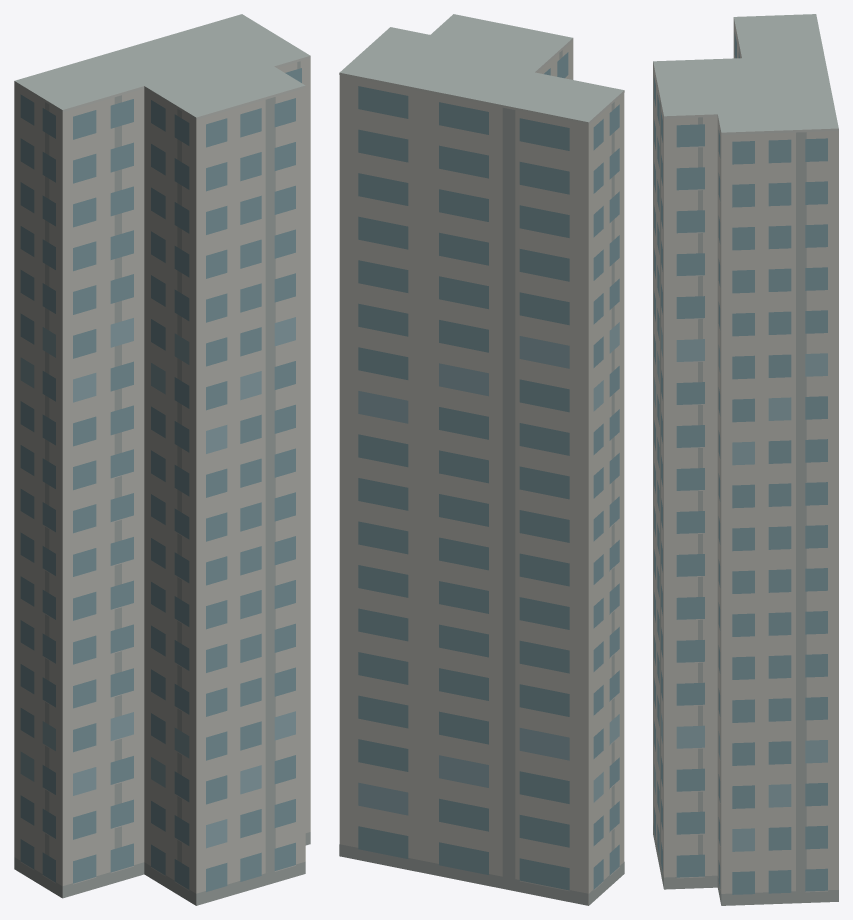
Rendered from residential-da04ca5b-e706-448f-b659-7ff9b1808402.glb.
The picture shows the model from 3 angles, left to right: view 1: azimuth 30°, elevation 25°; view 2: azimuth 150°, elevation 25°; view 3: azimuth 270°, elevation 25°; orthographic projection.
Parts seen in each view (by area): view 1: residential-da04ca5b-e706-448f-b659-7ff9b1808402.tmp; view 2: residential-da04ca5b-e706-448f-b659-7ff9b1808402.tmp; view 3: residential-da04ca5b-e706-448f-b659-7ff9b1808402.tmp.
Boxes of the visible parts, box(x1,y1,x2,y2) form: residential-da04ca5b-e706-448f-b659-7ff9b1808402.tmp: box(14, 14, 310, 905); residential-da04ca5b-e706-448f-b659-7ff9b1808402.tmp: box(339, 14, 624, 905); residential-da04ca5b-e706-448f-b659-7ff9b1808402.tmp: box(653, 14, 838, 905).
Bounding box in the file's own units: 25.02 × 76 × 16.55.
